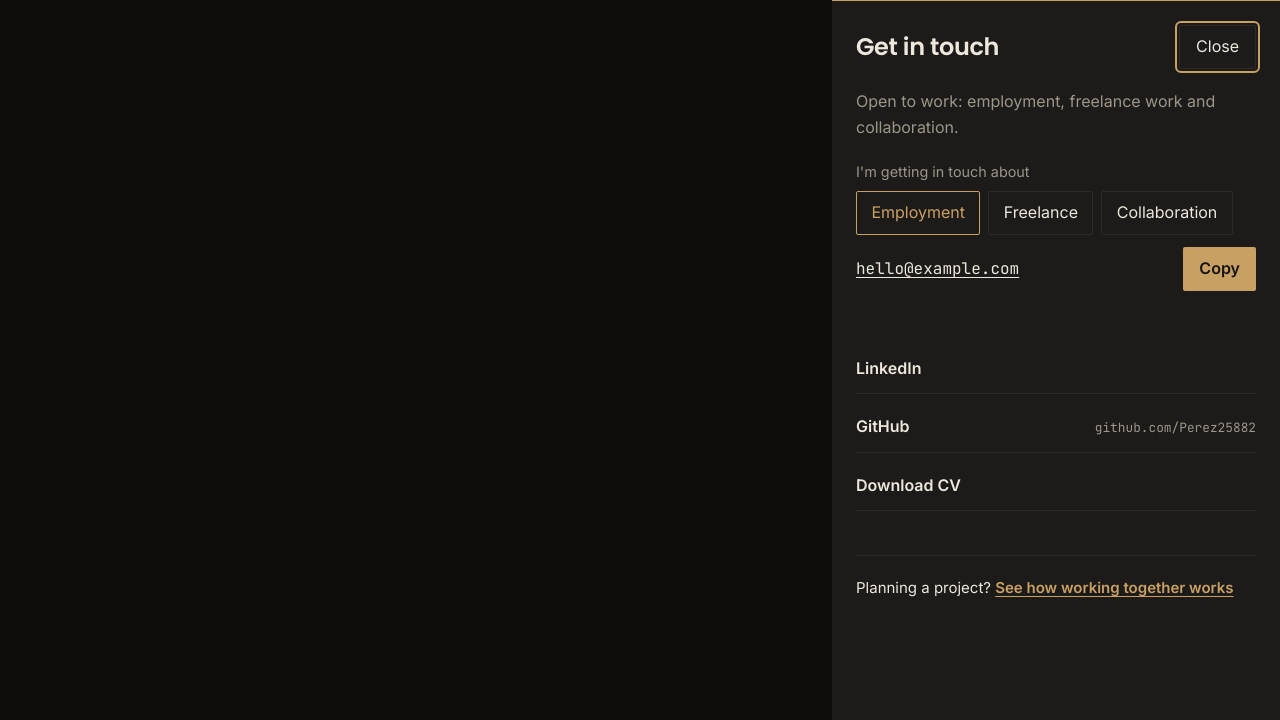
Test: ContactSheet › confirms when the email address is copied
The width and height of the screenshot is (1280, 720).
Click the button with aria-label "Copy hello@example.com".
click(1220, 269)  # box [1183,247,1256,291]
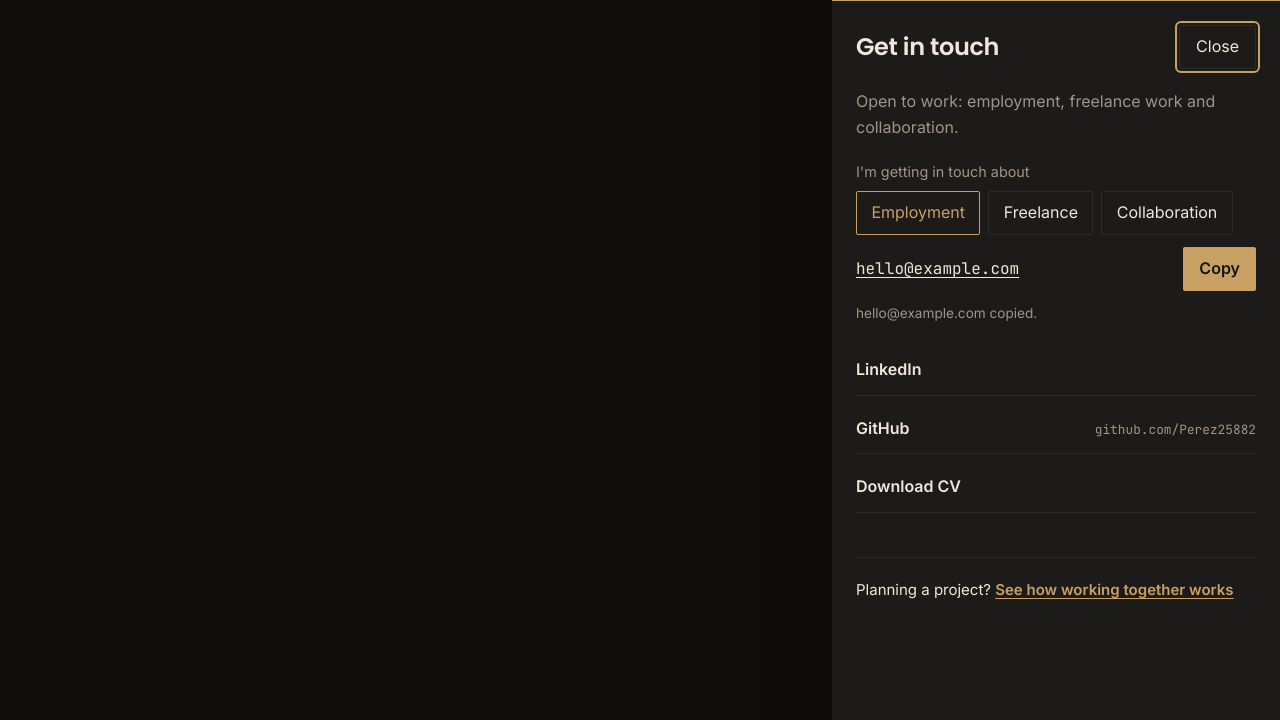
Check: the text "hello@example.com copied." is shown, box [856,305,1037,321]
